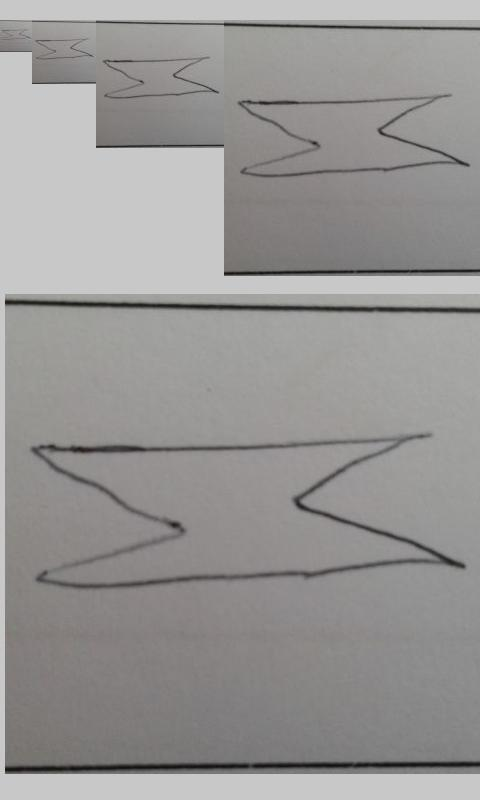edit_text: (31, 433, 461, 590), (238, 94, 468, 178), (102, 57, 215, 99), (35, 38, 92, 60), (1, 29, 30, 41)
